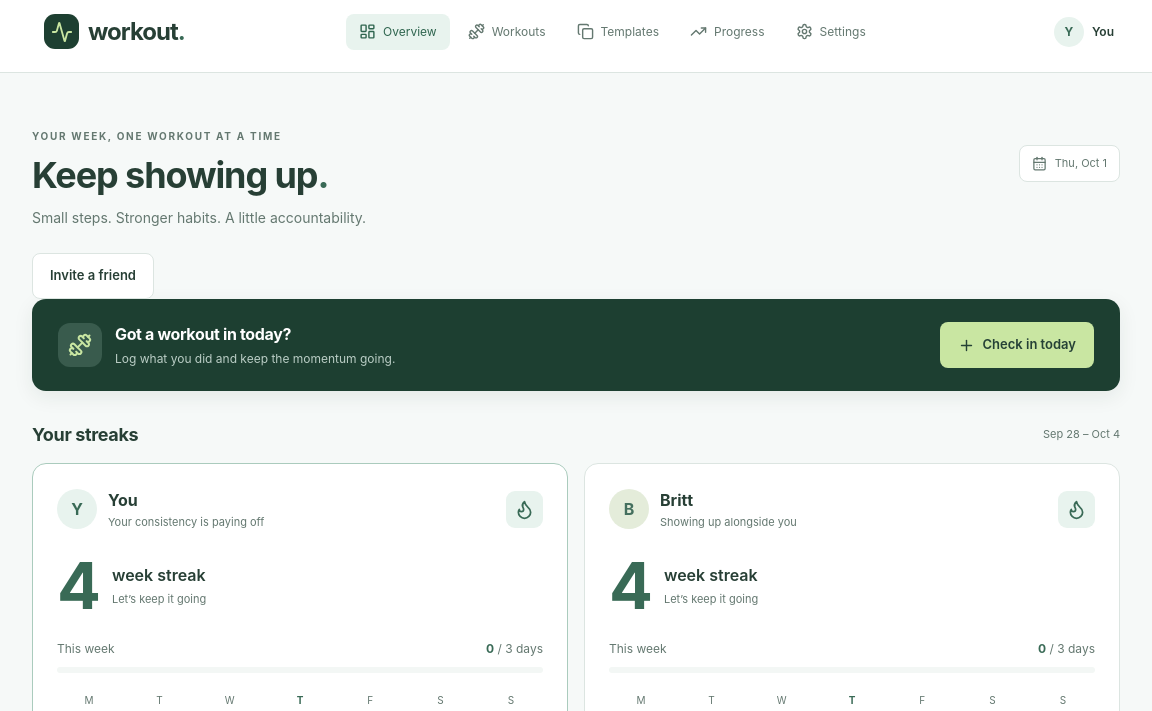
Scenario: canceling check-in does not record a workout
Step 1. Click the button "Check in today" → (1017, 345), box 940,322 -> 1094,368
(page scrolled)
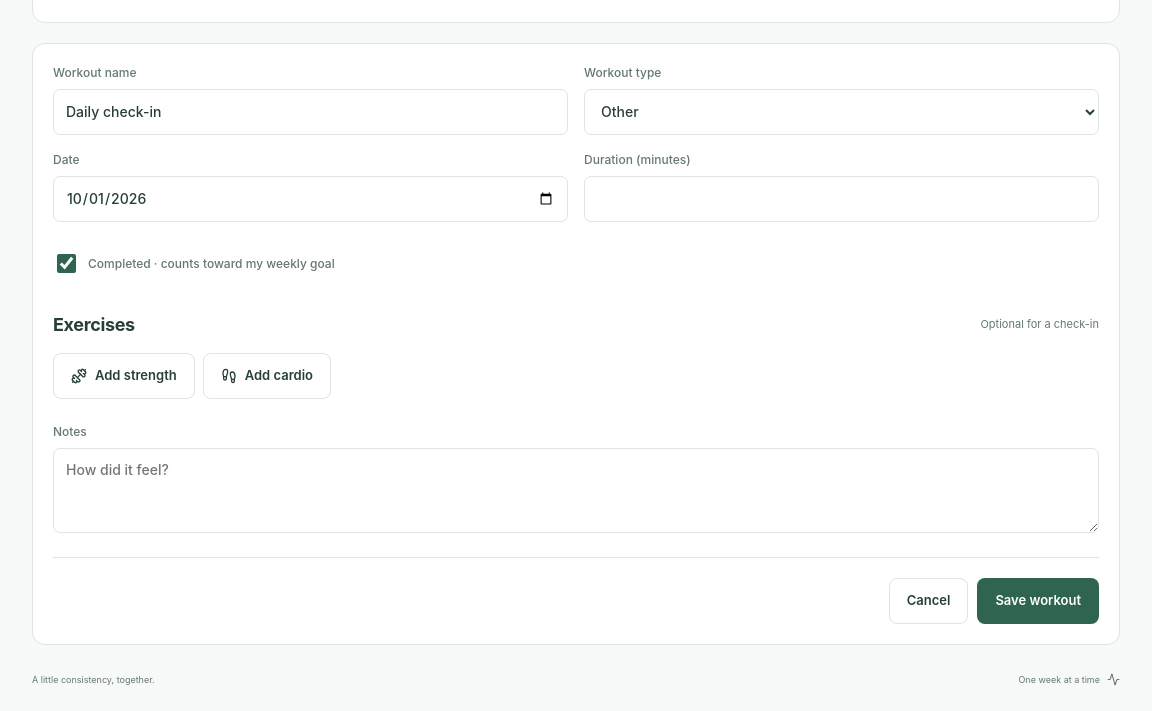
Step 2. Click the button "Cancel" → (929, 601), box 889,578 -> 968,624
(page scrolled)
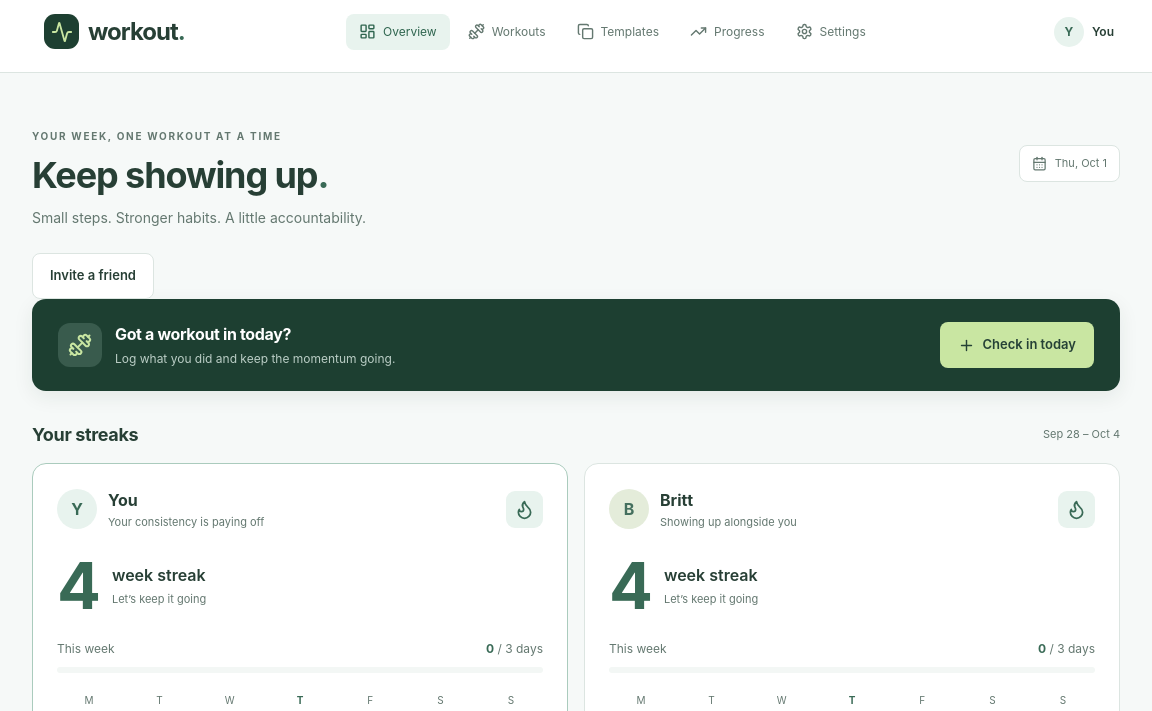
Check: the button "Check in today" is shown, box 940,322 -> 1094,368
